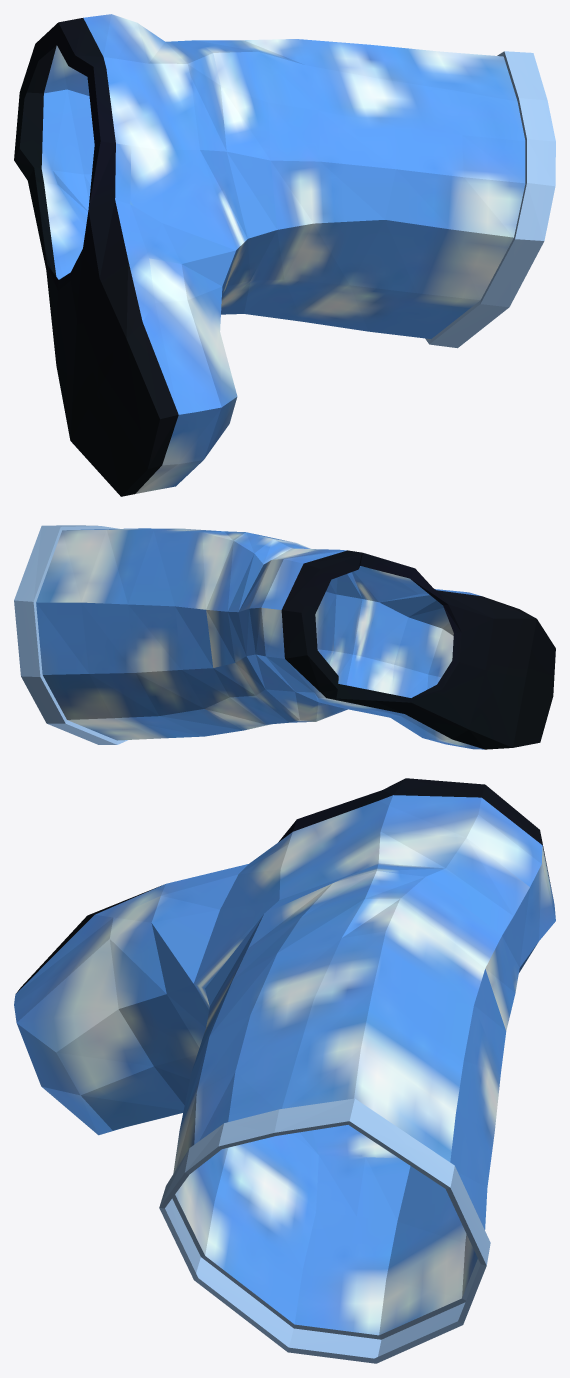
File: CloudHandBootsRight.fbx
3 renders of one model, top to bottom at view 1: azimuth 30°, elevation 25°; view 2: azimuth 150°, elevation 25°; view 3: azimuth 270°, elevation 25°, orthographic. The views are drawn at different scales.
Visible parts, largest first — view 1: CLOUD_HAND_BOOTS; view 2: CLOUD_HAND_BOOTS; view 3: CLOUD_HAND_BOOTS.
Part boxes in pixels (x1,y1,x2,y2): CLOUD_HAND_BOOTS: [14, 14, 555, 496]; CLOUD_HAND_BOOTS: [14, 525, 555, 749]; CLOUD_HAND_BOOTS: [14, 778, 555, 1363].
Size of the model in its own units: 41.61 by 25.42 by 31.77.
